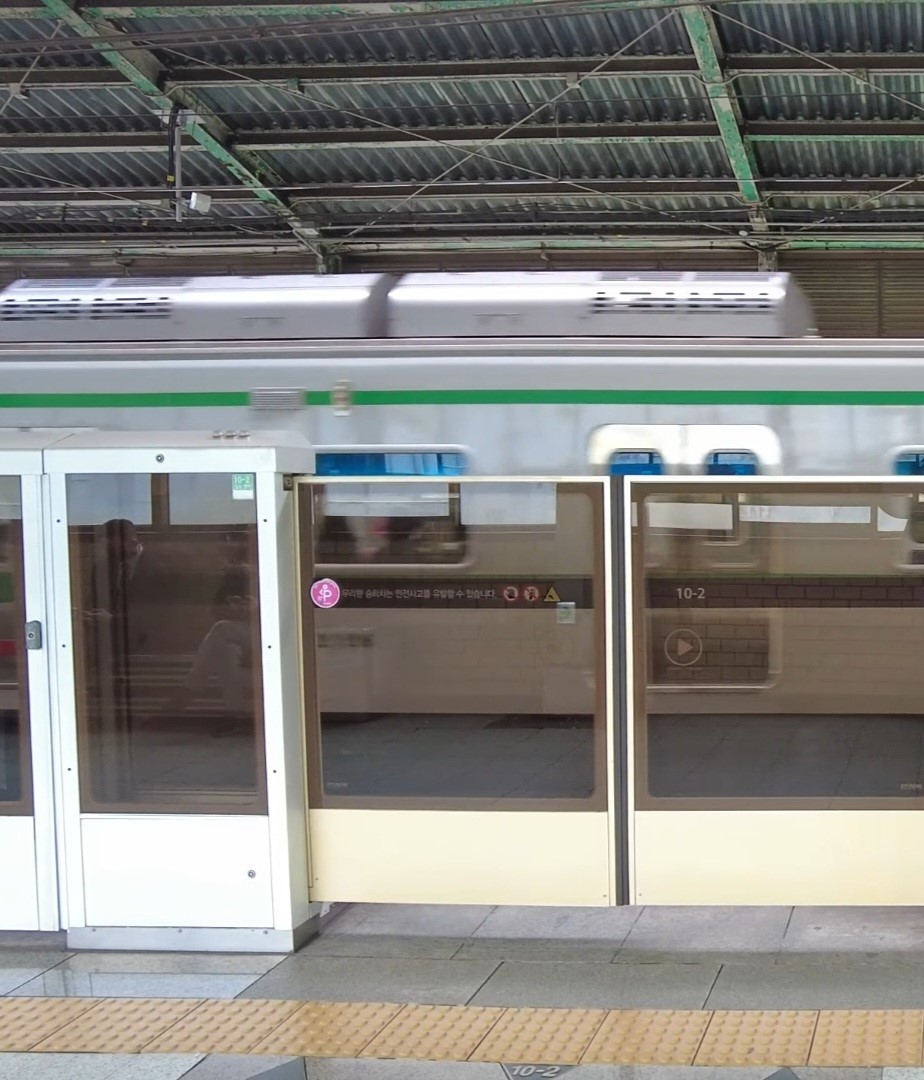warningBlock: (185, 994, 286, 1056), (703, 1013, 811, 1069), (392, 1004, 493, 1063), (77, 1001, 191, 1051), (495, 1011, 598, 1065), (601, 1006, 698, 1063), (283, 1004, 387, 1055), (825, 1010, 924, 1062), (2, 992, 96, 1042)
